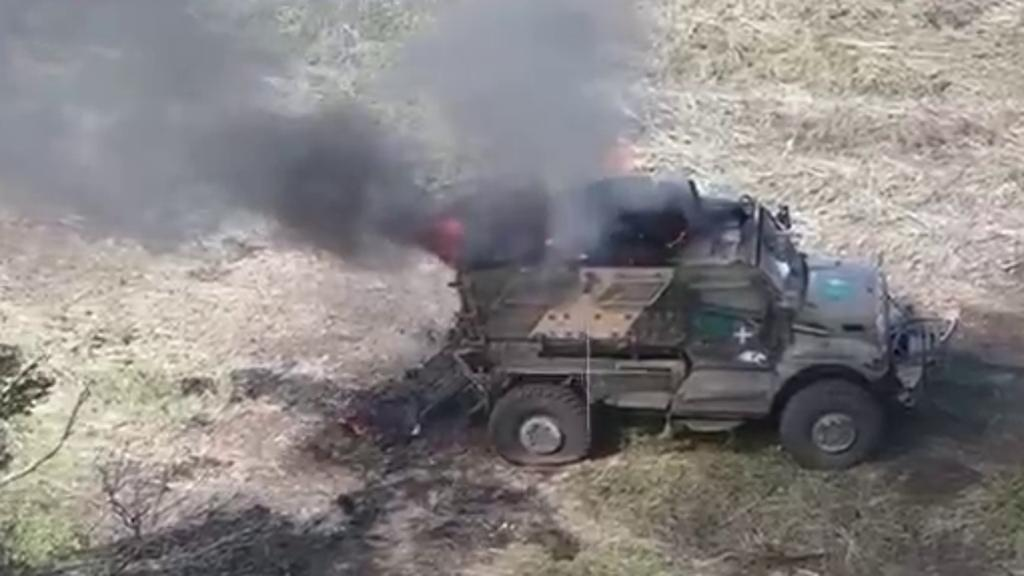CAR: (444, 170, 932, 470)
